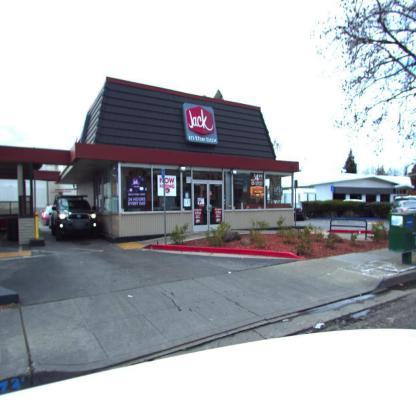bench: (328, 220, 374, 244)
car: (47, 195, 97, 241)
